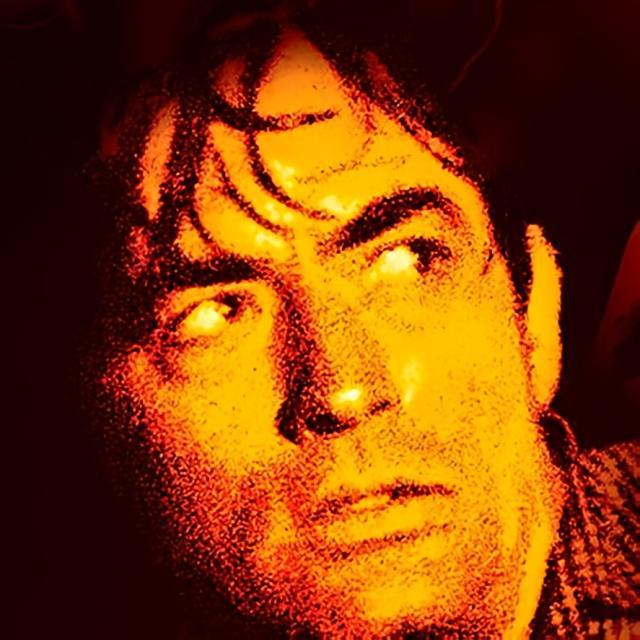fear: (94, 28, 527, 640)
